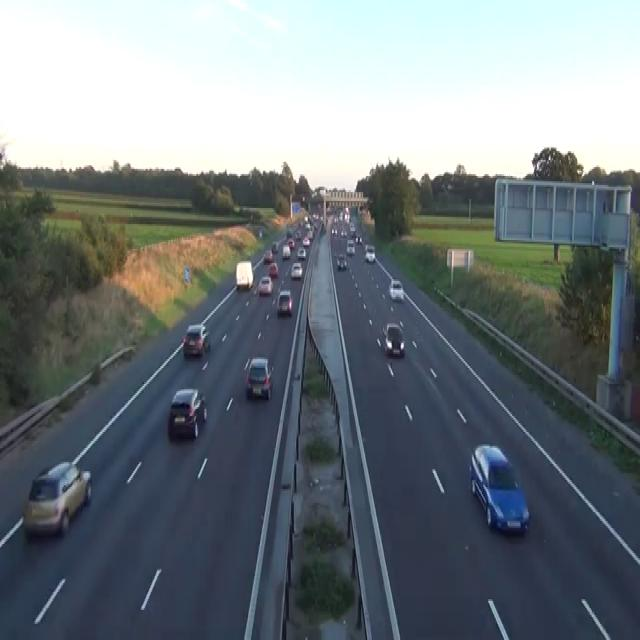Car: (469, 443, 530, 535), (22, 460, 92, 537), (168, 388, 207, 439), (245, 356, 273, 400), (182, 324, 210, 356), (382, 322, 404, 356), (276, 290, 292, 314), (389, 278, 404, 300), (257, 276, 272, 295), (290, 261, 302, 279), (336, 252, 347, 270), (365, 244, 375, 263), (268, 262, 278, 278), (346, 238, 355, 254), (296, 246, 306, 260), (282, 243, 290, 260), (263, 249, 272, 263), (271, 240, 279, 252), (287, 238, 295, 249), (302, 235, 309, 245), (355, 234, 362, 243), (349, 222, 355, 231), (350, 228, 355, 238), (331, 226, 337, 234), (340, 228, 346, 236), (294, 230, 300, 238), (286, 230, 292, 238), (258, 228, 262, 238), (304, 215, 308, 224)
Truck: (235, 260, 253, 290)
